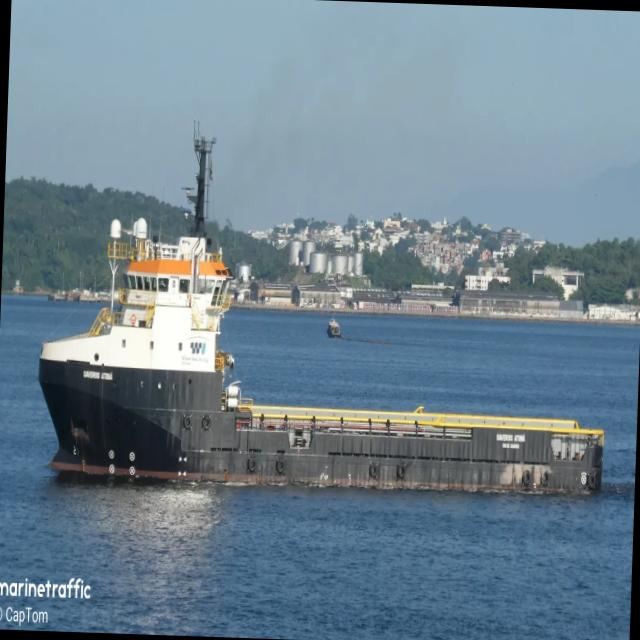Offshore: (39, 136, 604, 493)
